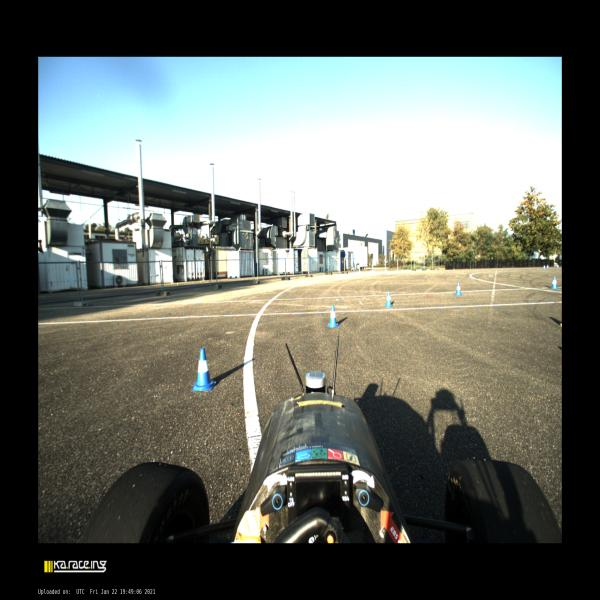blue_cone: (192, 348, 216, 392), (327, 304, 340, 327), (384, 291, 393, 307), (455, 282, 462, 296), (550, 277, 558, 289), (543, 264, 546, 270), (547, 264, 549, 269), (557, 264, 559, 268)
